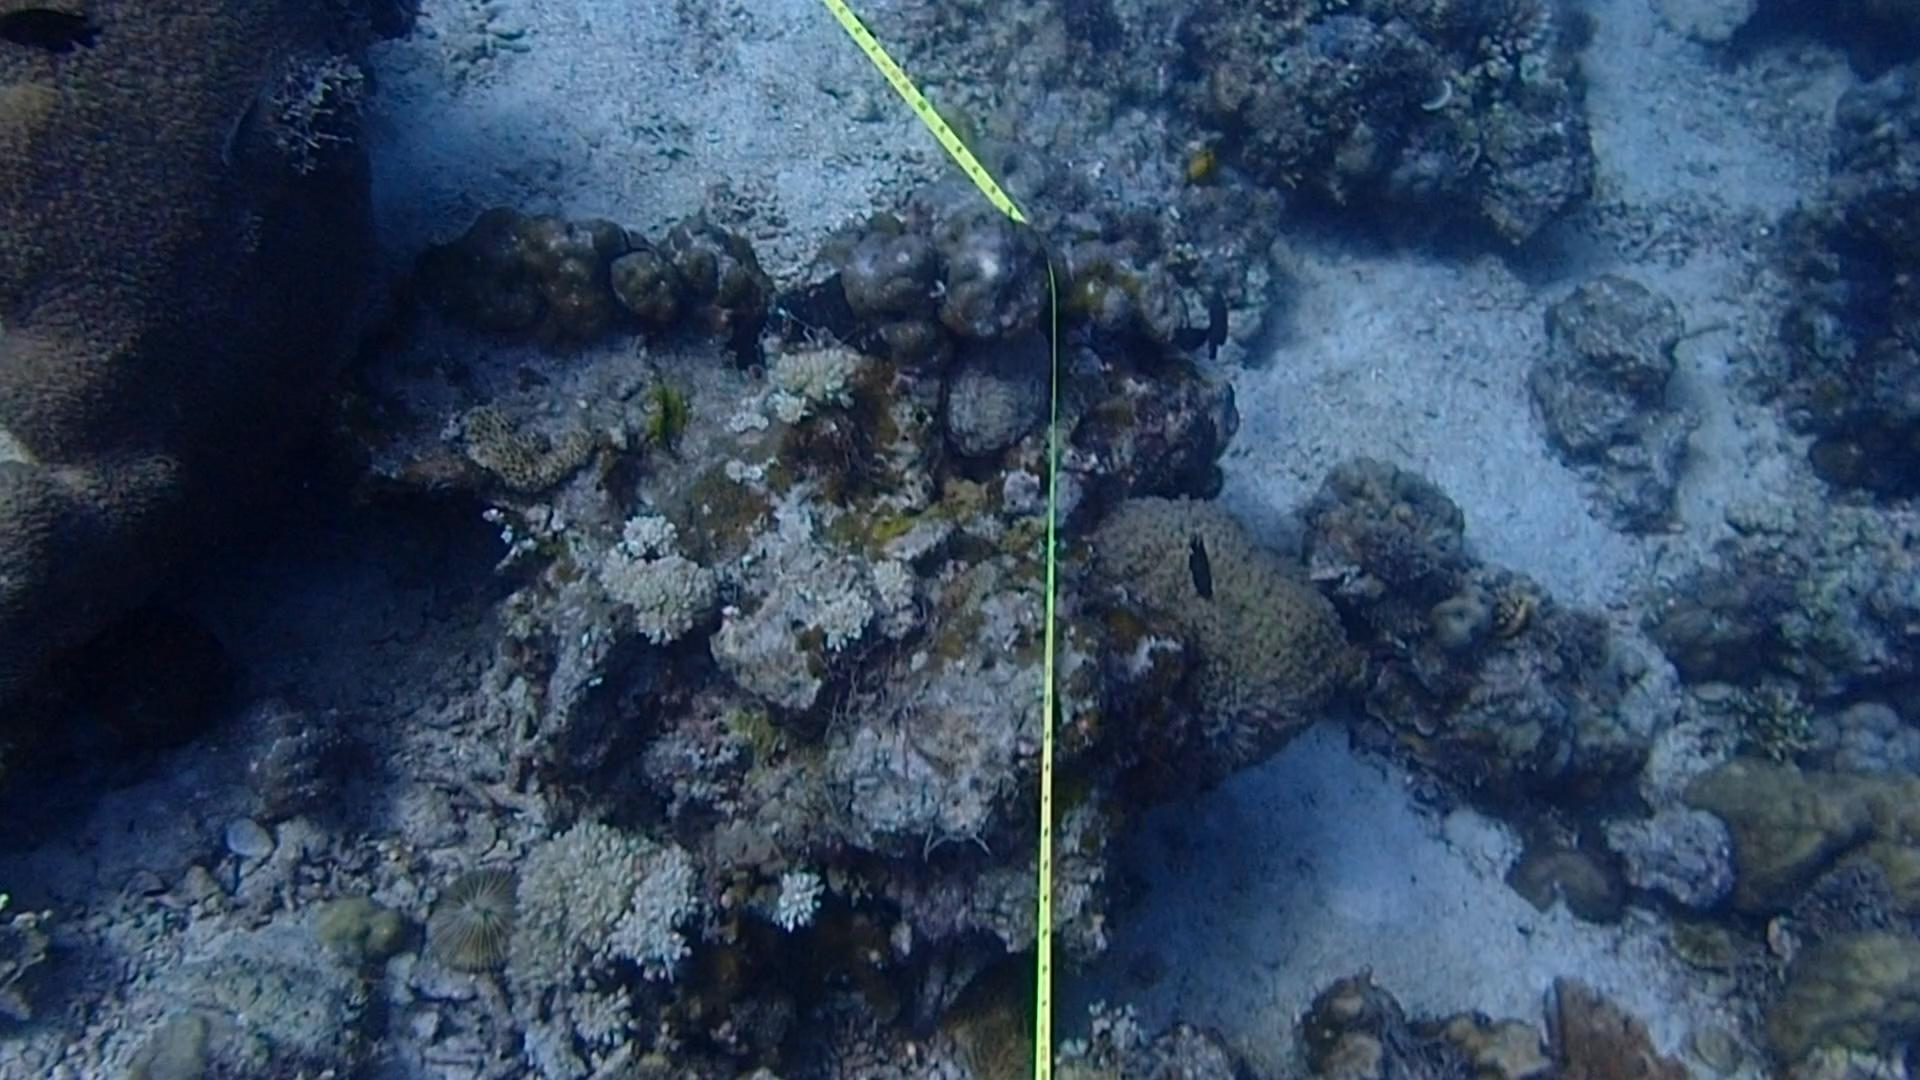Dark Fish: (1317, 575, 1389, 657), (1178, 518, 1218, 617), (1162, 289, 1213, 364), (1196, 289, 1240, 364)
